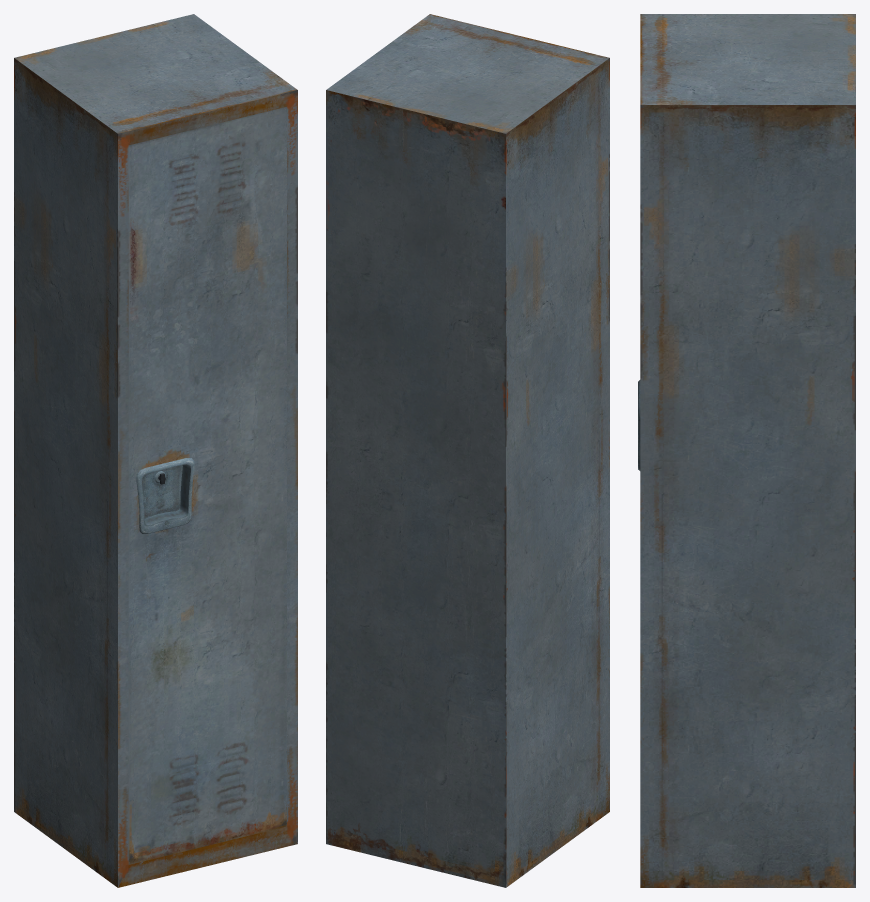
The model's file is 051_locker01a.fbx.
3 views of the same model, side by side, from view 1: azimuth 30°, elevation 25°; view 2: azimuth 150°, elevation 25°; view 3: azimuth 270°, elevation 25° (orthographic). The views are drawn at different scales.
Visible parts, largest first — view 1: LOD_1_Group_0_Sub_1__sm30_051_Locker01A_A_Mat, LOD_1_Group_1_Sub_1__sm30_051_Locker01A_A_Mat; view 2: LOD_1_Group_0_Sub_1__sm30_051_Locker01A_A_Mat; view 3: LOD_1_Group_0_Sub_1__sm30_051_Locker01A_A_Mat.
Boxes of the visible parts, <box> form: LOD_1_Group_0_Sub_1__sm30_051_Locker01A_A_Mat: <box>14,14,297,887</box>; LOD_1_Group_1_Sub_1__sm30_051_Locker01A_A_Mat: <box>128,107,286,864</box>; LOD_1_Group_0_Sub_1__sm30_051_Locker01A_A_Mat: <box>326,14,609,887</box>; LOD_1_Group_0_Sub_1__sm30_051_Locker01A_A_Mat: <box>640,14,855,887</box>.
Size of the model in its own units: 0.5 by 2 by 0.5052.
